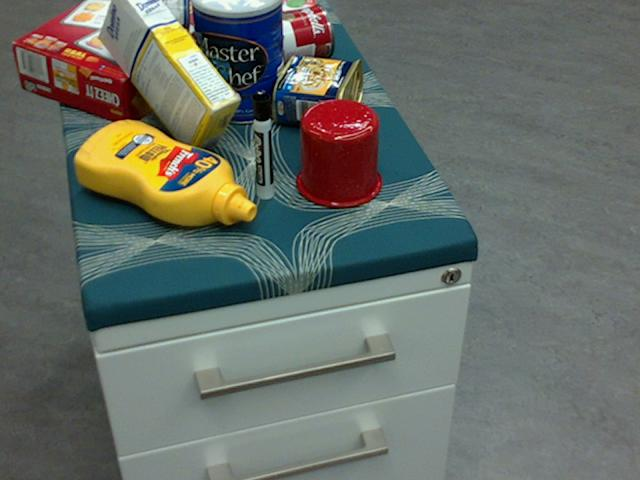cracker_box: (13, 0, 230, 126)
gelatin_box: (250, 0, 317, 38)
large_marker: (252, 90, 272, 197)
master_chef_can: (190, 0, 284, 124)
mug: (293, 97, 380, 207)
mustard_bottle: (74, 120, 256, 225)
potted_meat_can: (272, 53, 362, 134)
sugar_box: (99, 0, 243, 156)
tomato_soup_can: (240, 3, 334, 71)
tuna_fish_can: (153, 0, 188, 52)
